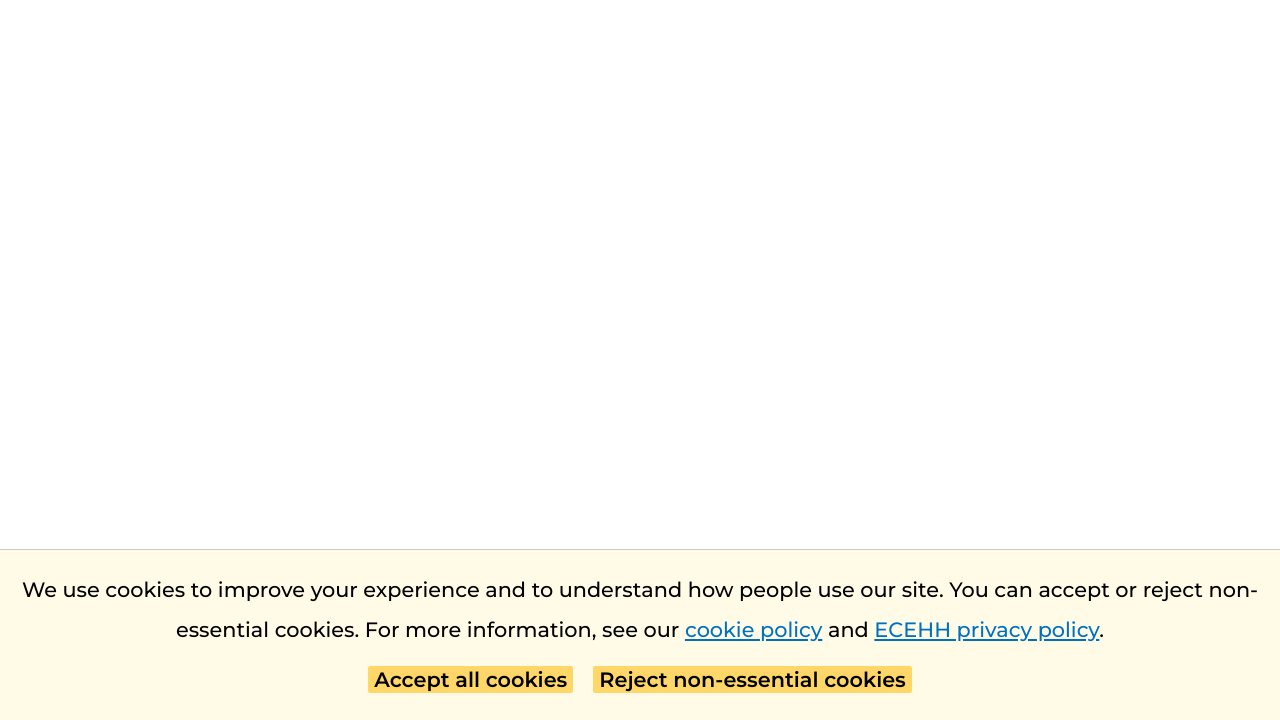
Scenario: CookieConsent › opens the cookie policy dialog from the banner
The width and height of the screenshot is (1280, 720).
Click the button "cookie policy".
click(754, 630)  # box x1=685 y1=610 x2=822 y2=649
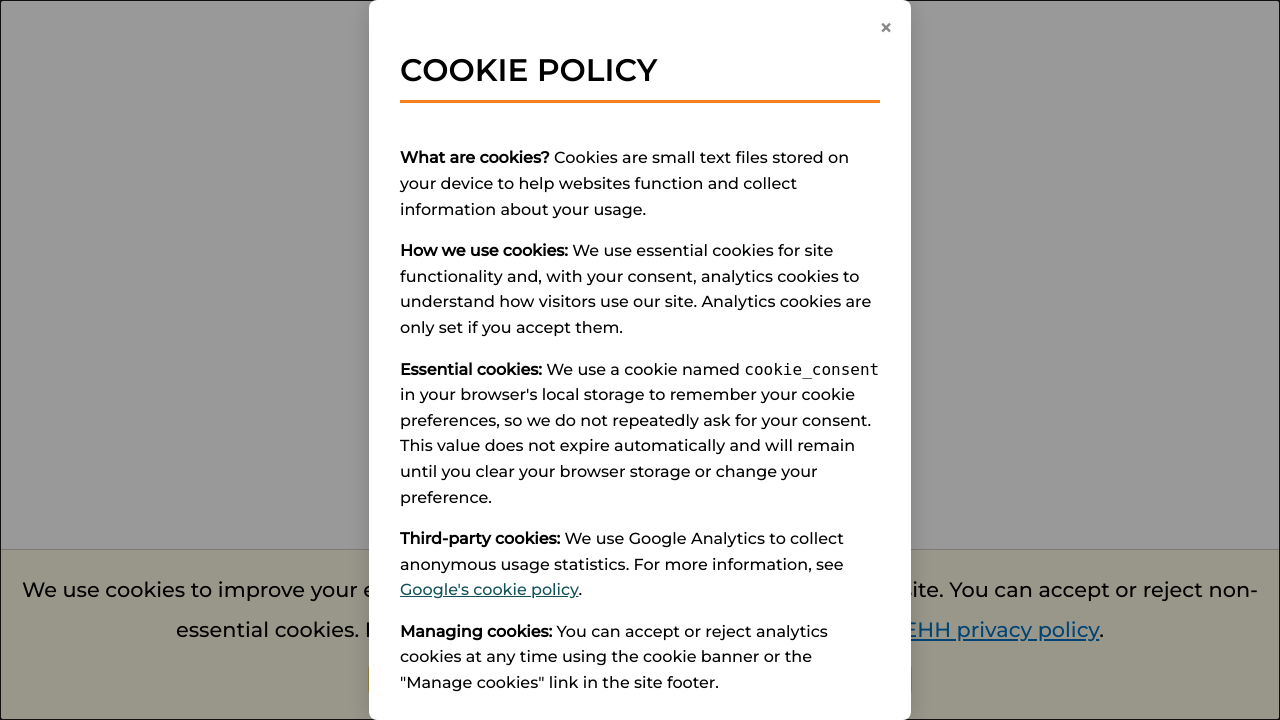
Check: the dialog is shown
